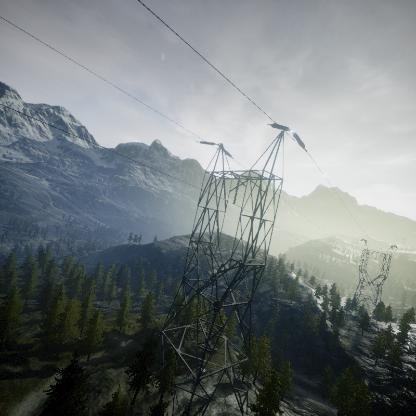tower: (149, 121, 309, 413), (350, 235, 400, 322)
